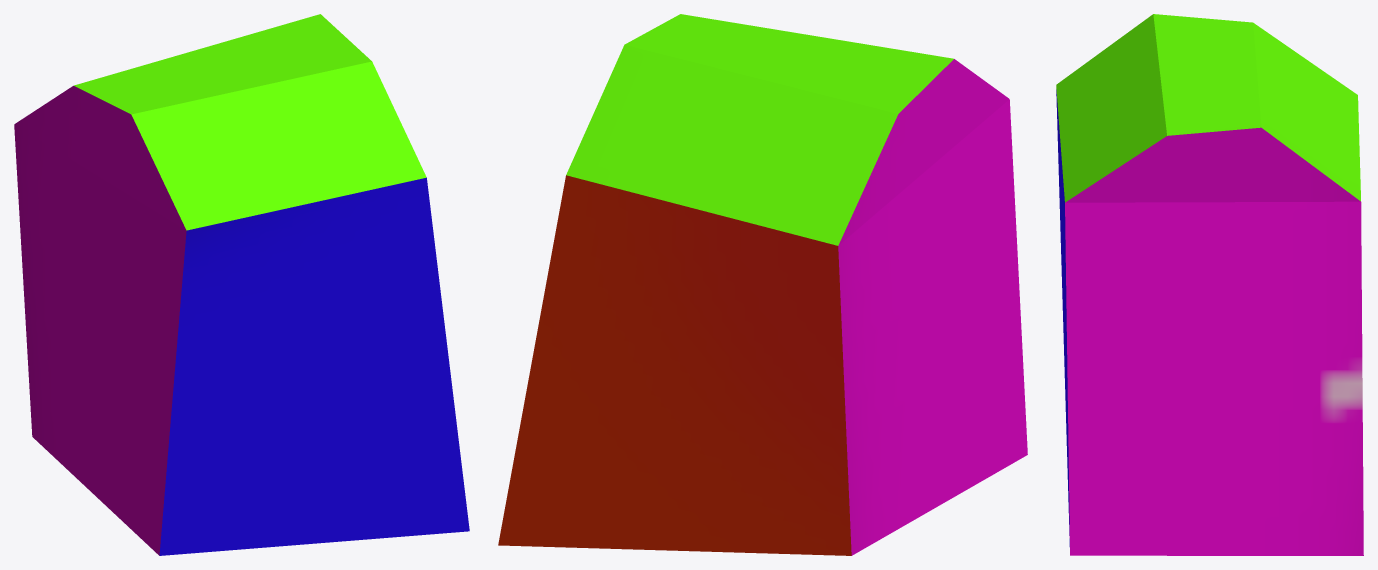
The model's file is Statue1-2.fbx.
The picture shows the model from 3 angles, left to right: view 1: azimuth 30°, elevation 25°; view 2: azimuth 150°, elevation 25°; view 3: azimuth 270°, elevation 25°; orthographic projection. The views are drawn at different scales.
Visible parts, largest first — view 1: Cube.002; view 2: Cube.002; view 3: Cube.002.
Boxes of the visible parts, x1,y1,x2,y2 form: Cube.002: (14,14,469,555); Cube.002: (498,14,1027,555); Cube.002: (1056,14,1363,555).
Size of the model in its own units: 85.72 by 113 by 76.11.
